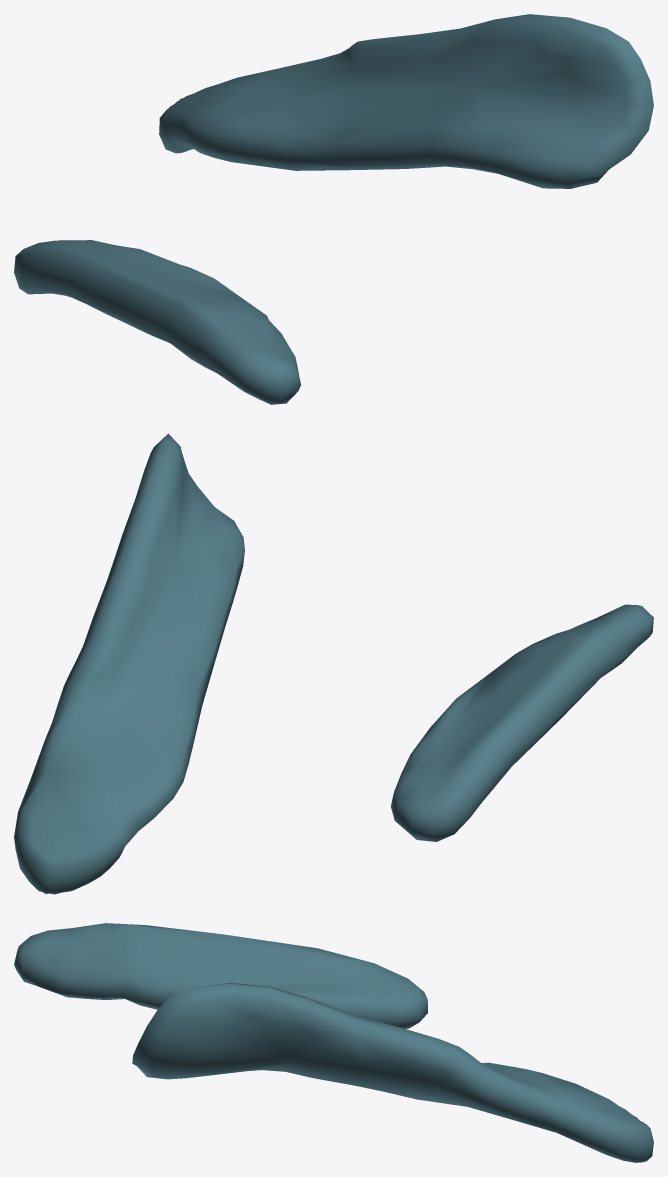
The model's file is Flexor_digitorum_brevis_3rd_medial_phalanx_left.glb.
The picture shows the model from 3 angles, top to bottom: view 1: azimuth 30°, elevation 25°; view 2: azimuth 150°, elevation 25°; view 3: azimuth 270°, elevation 25°; orthographic projection. The views are drawn at different scales.
Visible parts, largest first — view 1: Flexor_digitorum_brevis_on_3d_medial_phalanx.l_Generated_Mes; view 2: Flexor_digitorum_brevis_on_3d_medial_phalanx.l_Generated_Mes; view 3: Flexor_digitorum_brevis_on_3d_medial_phalanx.l_Generated_Mes.
Boxes of the visible parts, x1,y1,x2,y2 form: Flexor_digitorum_brevis_on_3d_medial_phalanx.l_Generated_Mes: [14, 14, 653, 404]; Flexor_digitorum_brevis_on_3d_medial_phalanx.l_Generated_Mes: [14, 433, 653, 894]; Flexor_digitorum_brevis_on_3d_medial_phalanx.l_Generated_Mes: [14, 923, 653, 1162].
Size of the model in its own units: 0.00579 by 0.00315 by 0.00798.
